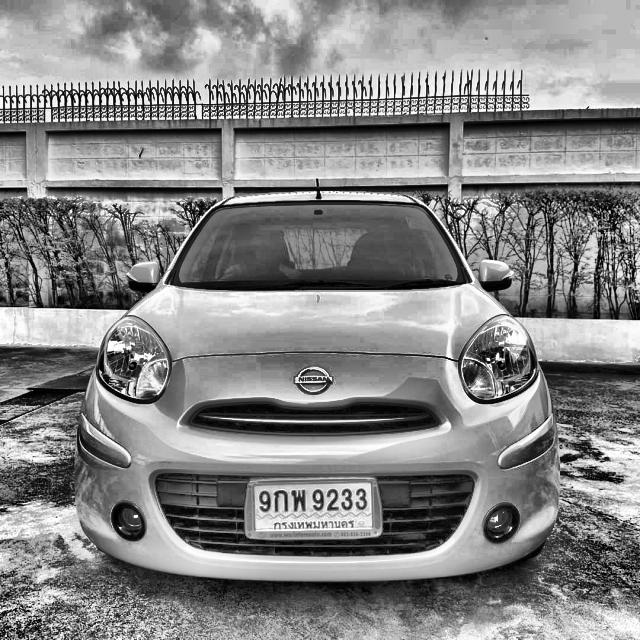license-plate: (245, 476, 381, 540)
